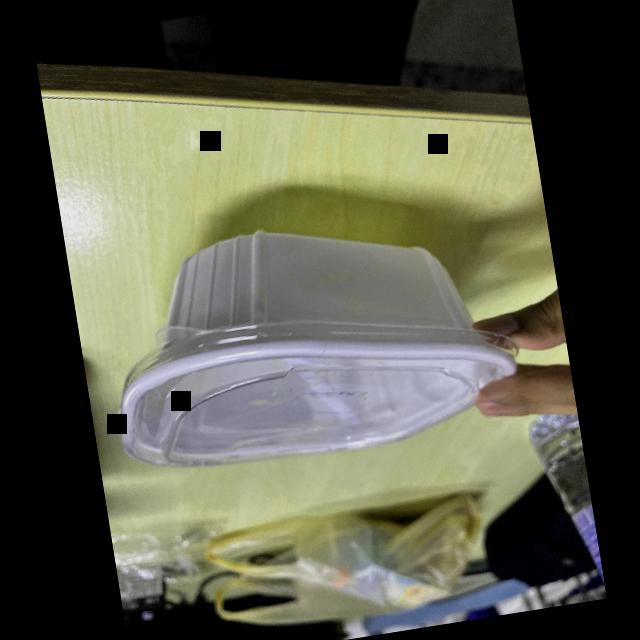plastic_box: (97, 185, 534, 500)
